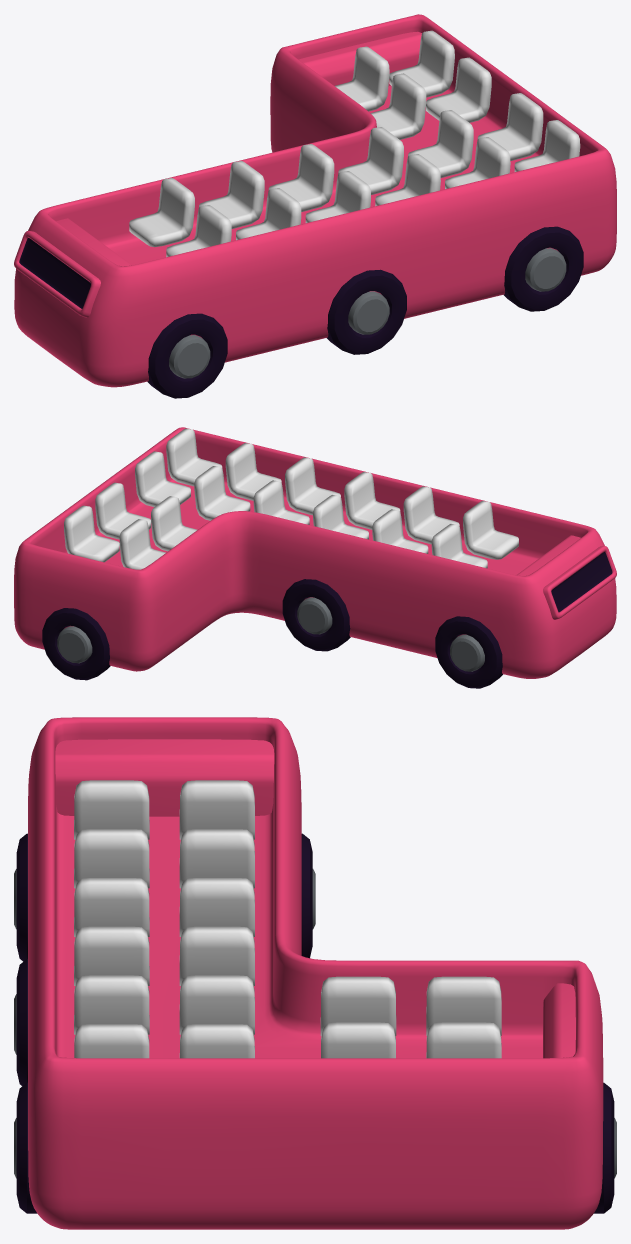
The model's file is car_L_L_2.fbx.
3 views of the same model, one above another, from view 1: azimuth 30°, elevation 25°; view 2: azimuth 150°, elevation 25°; view 3: azimuth 270°, elevation 25° (orthographic). The views are drawn at different scales.
Parts seen in each view (by area): view 1: Cube.094, Cube.053, Cylinder.010, Cube.098, Cylinder.011, Cube.096; view 2: Cube.094, Cube.053, Cylinder.010, Cube.098, Cylinder.011, Cube.096; view 3: Cube.094, Cube.053, Cube.098, Cylinder.010, Cylinder.011.
Boxes of the visible parts, x1=… form: Cube.094: x1=14, y1=14, x2=616, y2=387; Cube.053: x1=129, y1=93, x2=580, y2=257; Cylinder.010: x1=147, y1=269, x2=406, y2=398; Cube.098: x1=335, y1=30, x2=491, y2=139; Cylinder.011: x1=503, y1=226, x2=583, y2=311; Cube.096: x1=19, y1=238, x2=90, y2=308; Cube.094: x1=14, y1=427, x2=616, y2=678; Cube.053: x1=135, y1=428, x2=518, y2=568; Cylinder.010: x1=282, y1=579, x2=502, y2=688; Cube.098: x1=64, y1=482, x2=197, y2=569; Cylinder.011: x1=42, y1=608, x2=110, y2=680; Cube.096: x1=551, y1=552, x2=612, y2=612; Cube.094: x1=28, y1=717, x2=603, y2=1229; Cube.053: x1=74, y1=780, x2=254, y2=1058; Cube.098: x1=320, y1=976, x2=501, y2=1058; Cylinder.010: x1=14, y1=833, x2=315, y2=1085; Cylinder.011: x1=14, y1=1082, x2=616, y2=1213.
Size of the model in its own units: 642 by 173 by 440.
